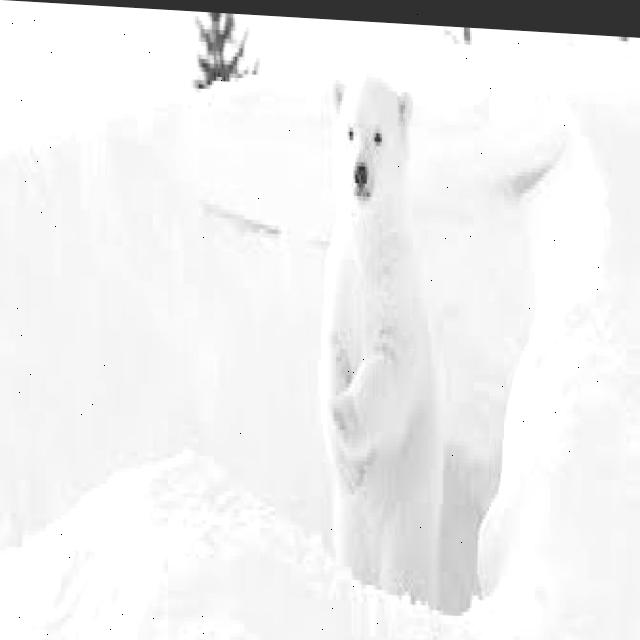Bear: (320, 68, 446, 604)
